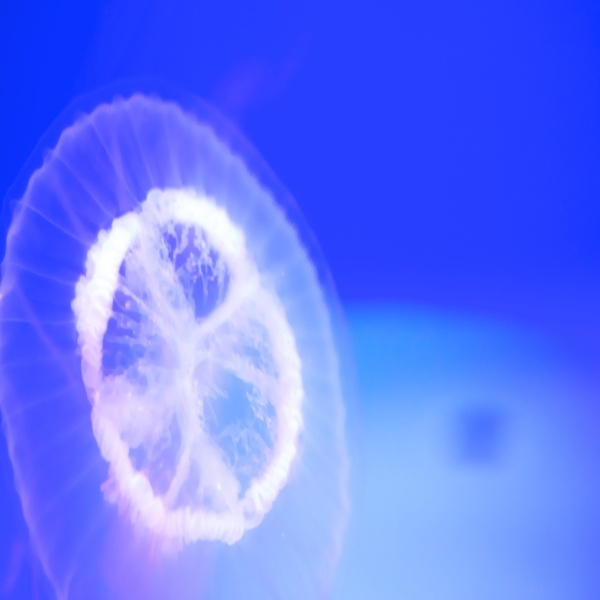Jellyfish: (0, 79, 366, 599)
